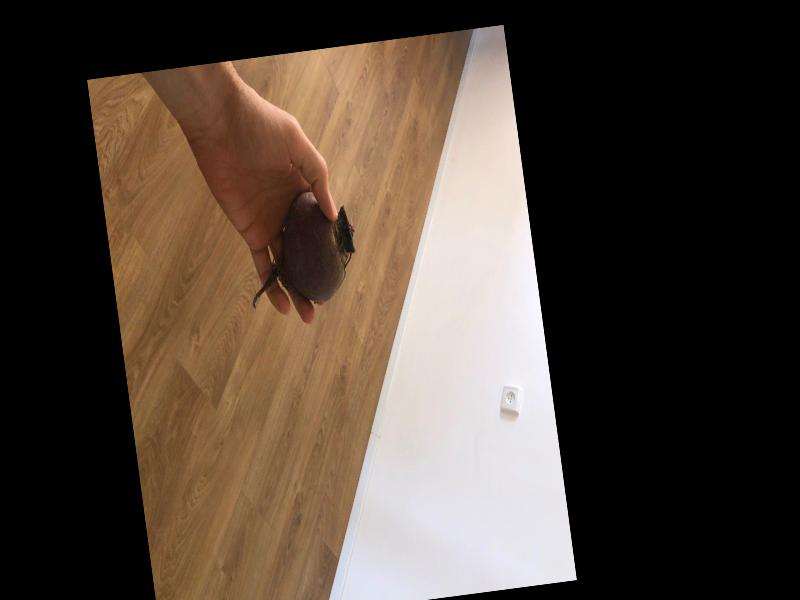Beet: (238, 187, 360, 314)
